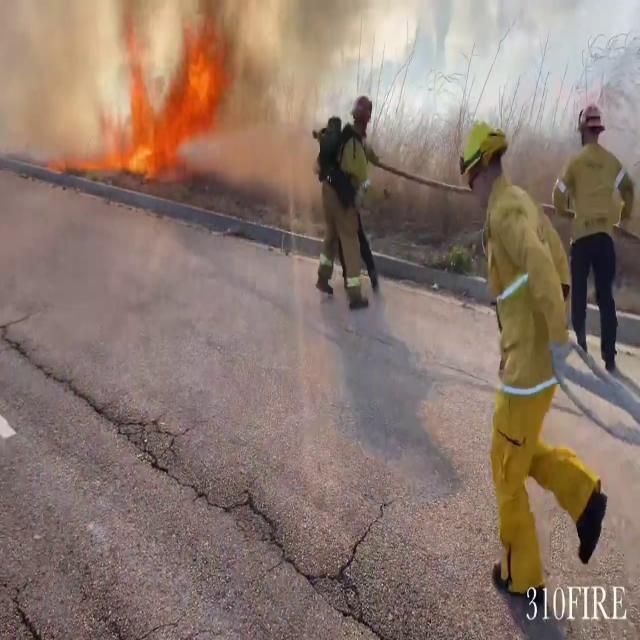Fire: (108, 18, 228, 180)
Smoke: (1, 0, 338, 167)
